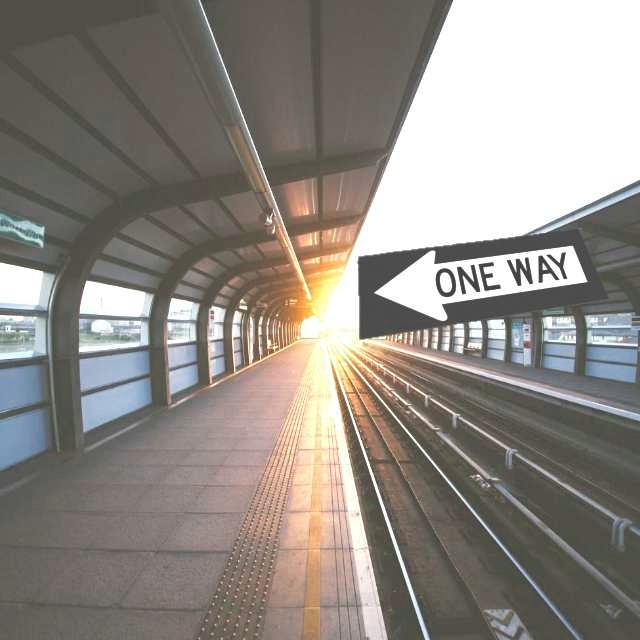ONE_WAY_ left: (357, 228, 610, 340)
